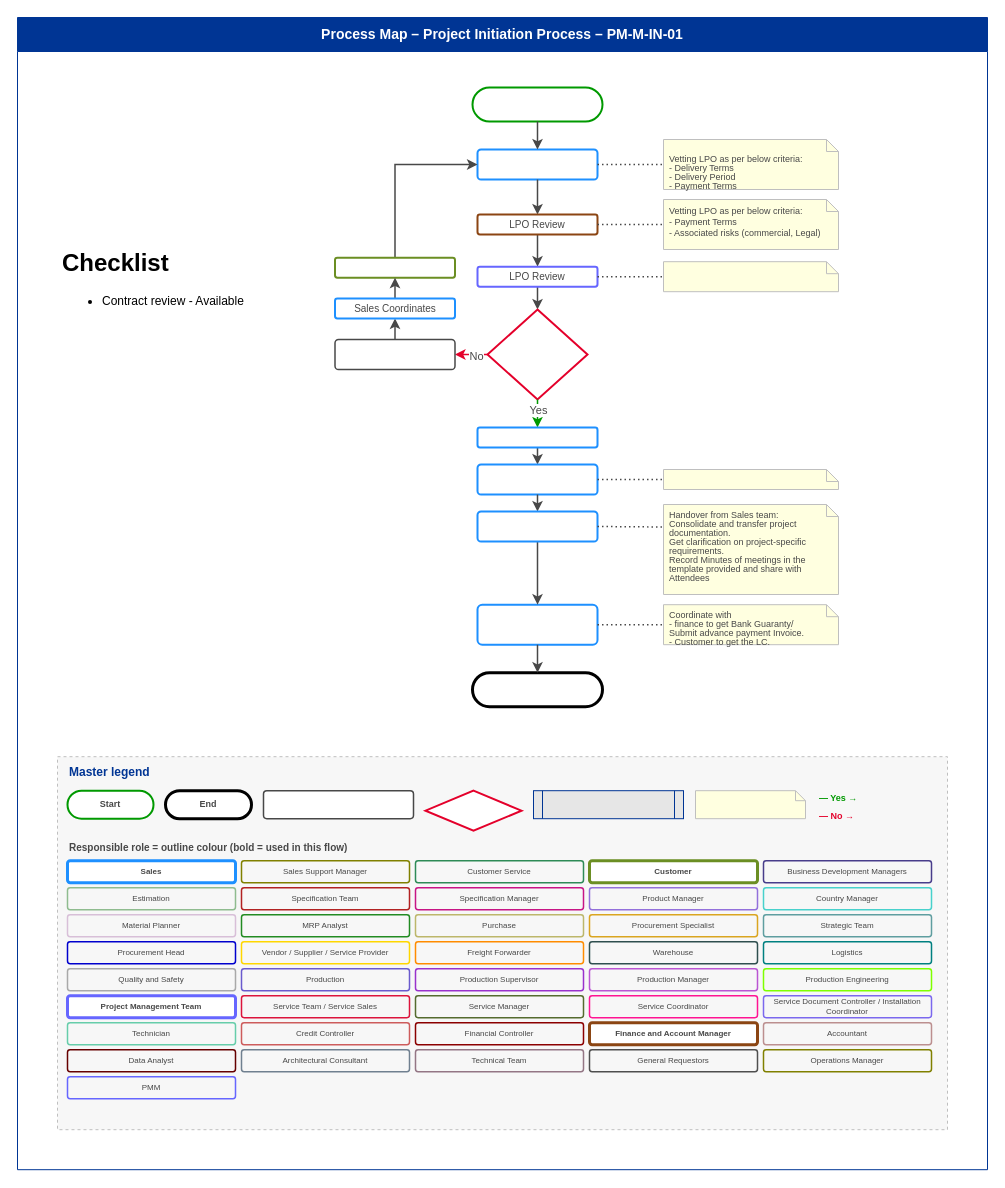
This 1005x1188 diagram has some shape labels left out. Here are the shapes that lost their labels. From the top down, the box of each, then its label:
(471, 86, 603, 122): Initiation
(476, 148, 598, 180): LPO received and reviewed
(334, 256, 456, 278): Revised LPO
(662, 261, 838, 292): Vetting LPO as per below criteria: - Associated risks on Site condition.
(334, 338, 455, 370): Notify Sales with comments
(486, 308, 588, 400): Contract/LPO OK?
(476, 426, 598, 448): Contract Signed
(476, 463, 598, 495): Order Acceptance released
(662, 468, 838, 490): OA/OC as per agreements.
(476, 510, 598, 542): Project Handover Meeting
(476, 603, 598, 645): Initiate advance payments or bank guarantees
(470, 671, 604, 708): Planning
(262, 790, 414, 819): Activity (outline = role)
(424, 789, 522, 831): Decision
(532, 790, 684, 819): Linked process (Ref ID)
(694, 790, 806, 819): Note / checklist
